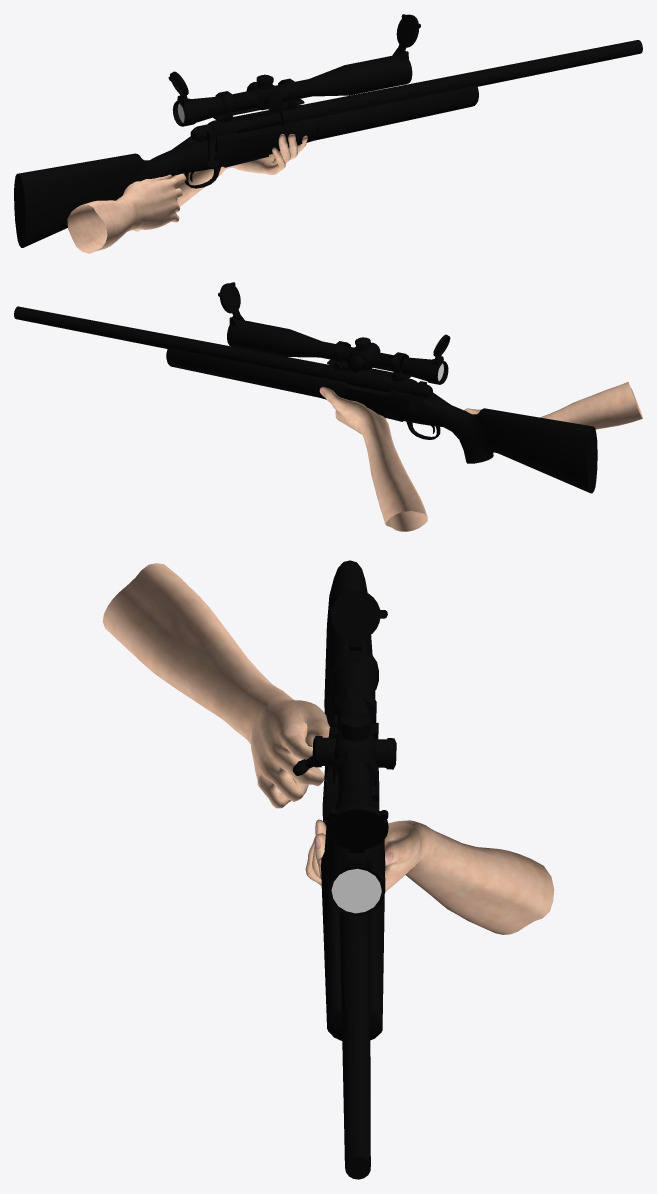
File: sniper.obj
The picture shows the model from 3 angles, top to bottom: view 1: azimuth 30°, elevation 25°; view 2: azimuth 150°, elevation 25°; view 3: azimuth 270°, elevation 25°; orthographic projection. The views are drawn at different scales.
Visible parts, largest first — view 1: Box001, Hand_Mesh03, Bolt; view 2: Box001, Hand_Mesh03; view 3: Hand_Mesh03, Box001, pCylinder2.
Boxes of the visible parts, x1=… form: Box001: x1=14, y1=14, x2=642, y2=247; Hand_Mesh03: x1=67, y1=134, x2=307, y2=253; Bolt: x1=190, y1=113, x2=281, y2=169; Box001: x1=14, y1=282, x2=597, y2=493; Hand_Mesh03: x1=319, y1=382, x2=642, y2=531; Hand_Mesh03: x1=102, y1=563, x2=554, y2=934; Box001: x1=312, y1=560, x2=396, y2=1179; pCylinder2: x1=331, y1=868, x2=381, y2=913.
Bounding box in the file's own units: 12.31 × 3.5 × 4.19.
Materials: 3 (2 with a texture image).
